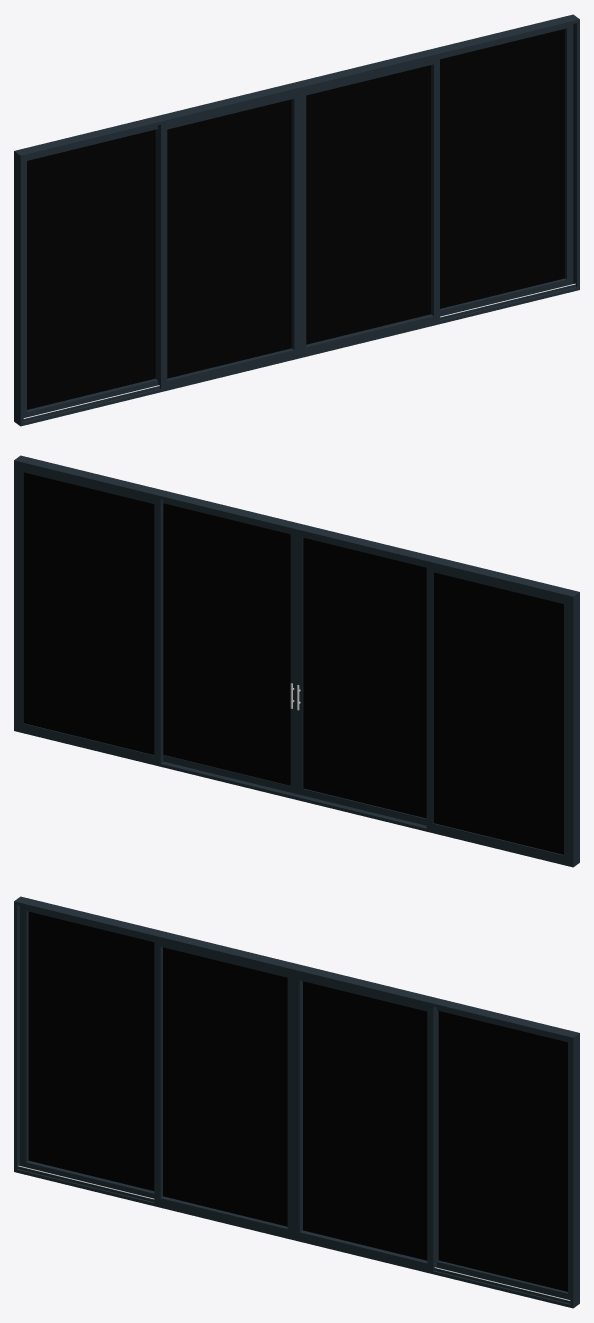
File: sliding-door.gltf
The picture shows the model from 3 angles, top to bottom: view 1: azimuth 30°, elevation 25°; view 2: azimuth 150°, elevation 25°; view 3: azimuth 330°, elevation 25°; orthographic projection.
Visible parts, largest first — view 1: frame, panelB, panelA; view 2: frame, panelA, panelB; view 3: frame, panelA, panelB.
Part boxes in pixels (<box>): frame: <box>14,14,579,426</box>; panelB: <box>158,90,300,388</box>; panelA: <box>300,56,439,354</box>; frame: <box>14,455,579,867</box>; panelA: <box>163,500,296,793</box>; panelB: <box>296,532,426,825</box>; frame: <box>14,896,579,1308</box>; panelA: <box>293,972,436,1271</box>; panelB: <box>154,938,293,1236</box>.
Bounding box in the file's own units: 4.87 × 2.25 × 0.1.
Materials: 4 (1 with a texture image).
